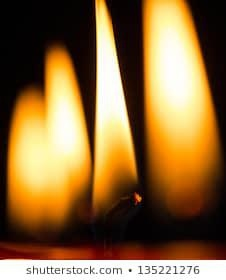fire: (1, 40, 147, 218)
